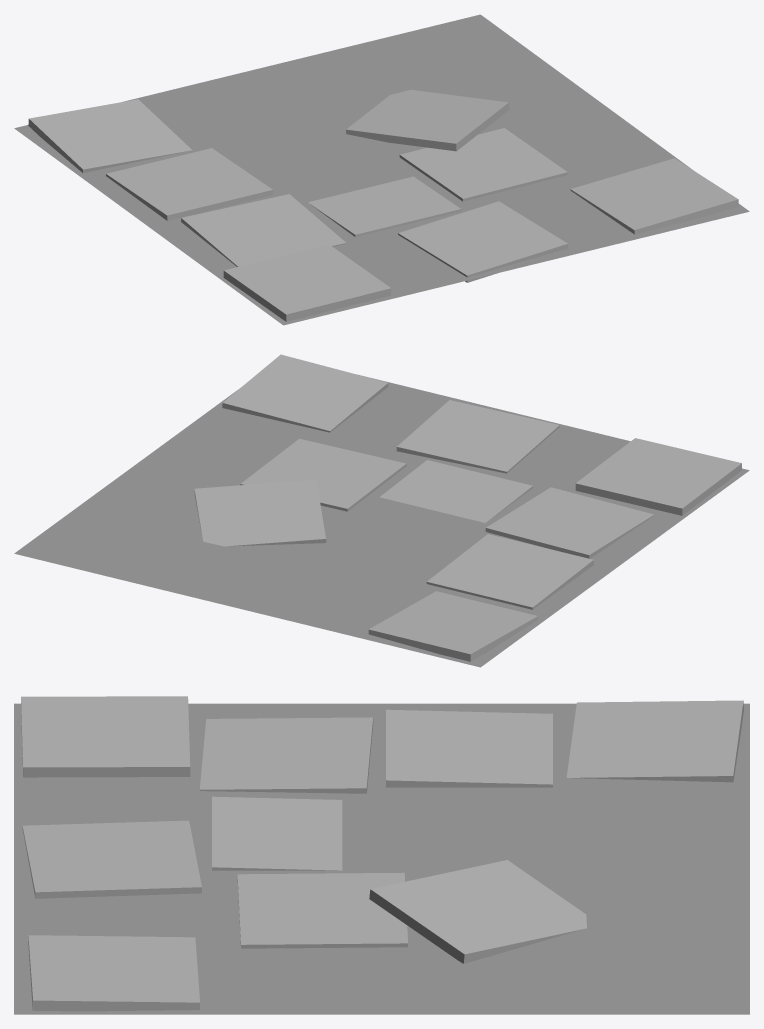
File: dalle3.FBX
3 renders of one model, top to bottom at view 1: azimuth 30°, elevation 25°; view 2: azimuth 150°, elevation 25°; view 3: azimuth 270°, elevation 25°, orthographic. The views are drawn at different scales.
Visible parts, largest first — view 1: sol3; view 2: sol3; view 3: sol3.
Boxes of the visible parts, x1,y1,x2,y2 form: sol3: [14, 14, 749, 325]; sol3: [14, 354, 749, 667]; sol3: [14, 696, 749, 1014].
Size of the model in its own units: 100 by 4.18 by 100.
Materials: 1 (1 with a texture image).
